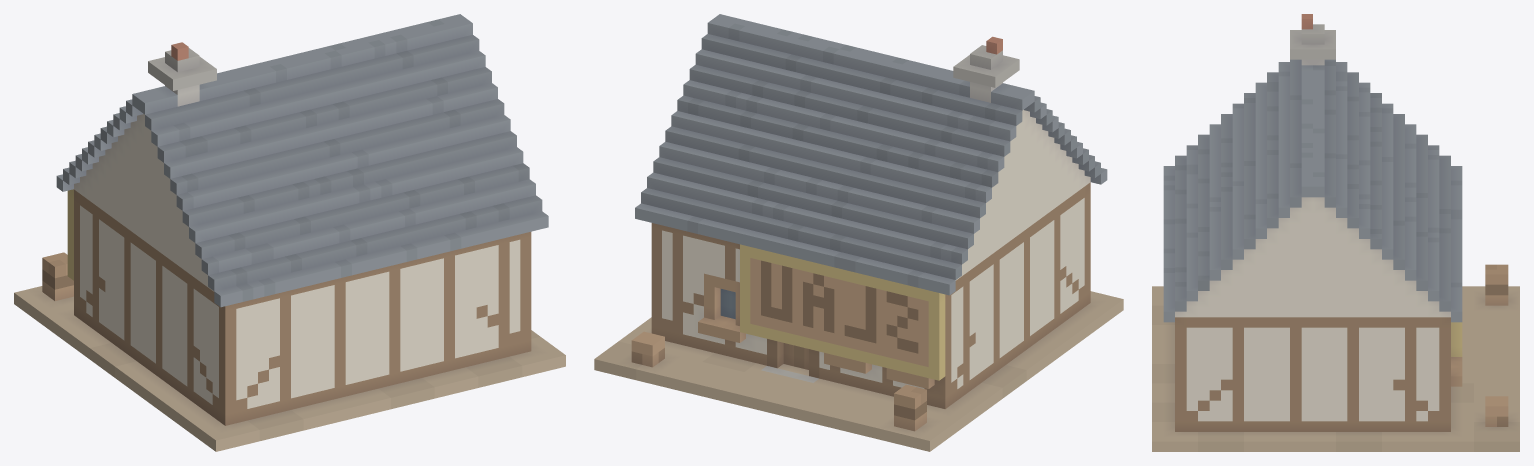
The model's file is slaughterhouse.glb.
The picture shows the model from 3 angles, left to right: view 1: azimuth 30°, elevation 25°; view 2: azimuth 150°, elevation 25°; view 3: azimuth 270°, elevation 25°; orthographic projection. The views are drawn at different scales.
Parts seen in each view (by area): view 1: slaughterhouse; view 2: slaughterhouse; view 3: slaughterhouse.
Part boxes in pixels (x1=…): slaughterhouse: x1=14, y1=14, x2=565, y2=451; slaughterhouse: x1=594, y1=14, x2=1123, y2=451; slaughterhouse: x1=1152, y1=14, x2=1519, y2=451.
Bounding box in the file's own units: 4 × 3.62 × 4.
